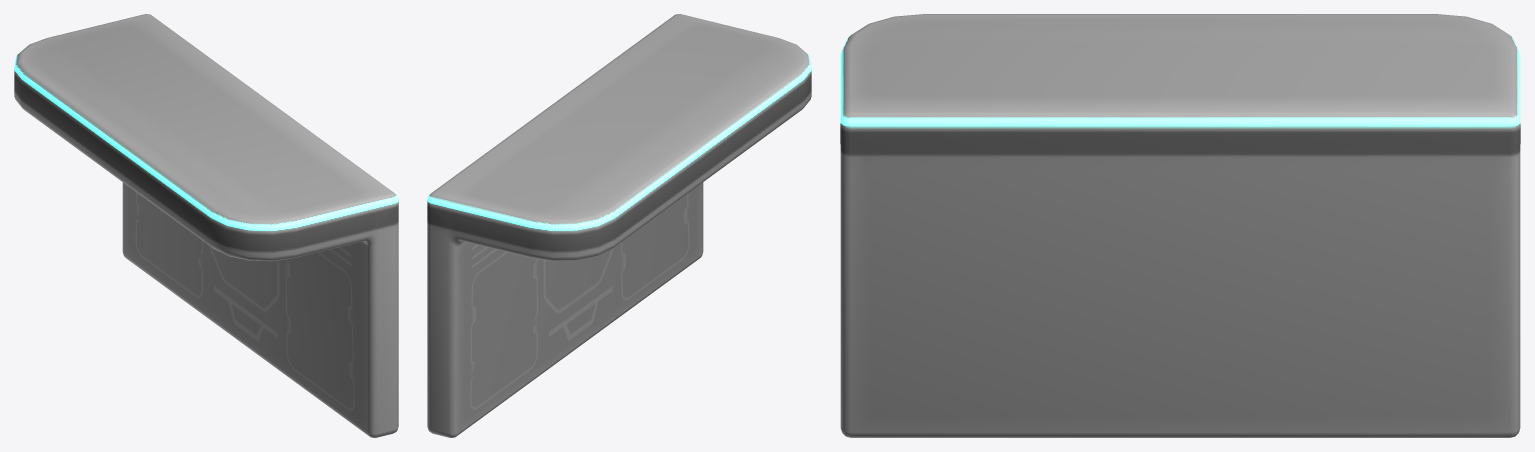
Rendered from SM_des_embedded.fbx.
3 renders of one model, left to right at view 1: azimuth 30°, elevation 25°; view 2: azimuth 150°, elevation 25°; view 3: azimuth 270°, elevation 25°, orthographic. The views are drawn at different scales.
Visible parts, largest first — view 1: SM_desk; view 2: SM_desk; view 3: SM_desk.
Part boxes in pixels (x1,y1,x2,y2): SM_desk: (14, 14, 398, 437); SM_desk: (427, 14, 811, 437); SM_desk: (840, 14, 1520, 437).
Size of the model in its own units: 63.59 by 91.68 by 174.
1 material, 1 textured.
